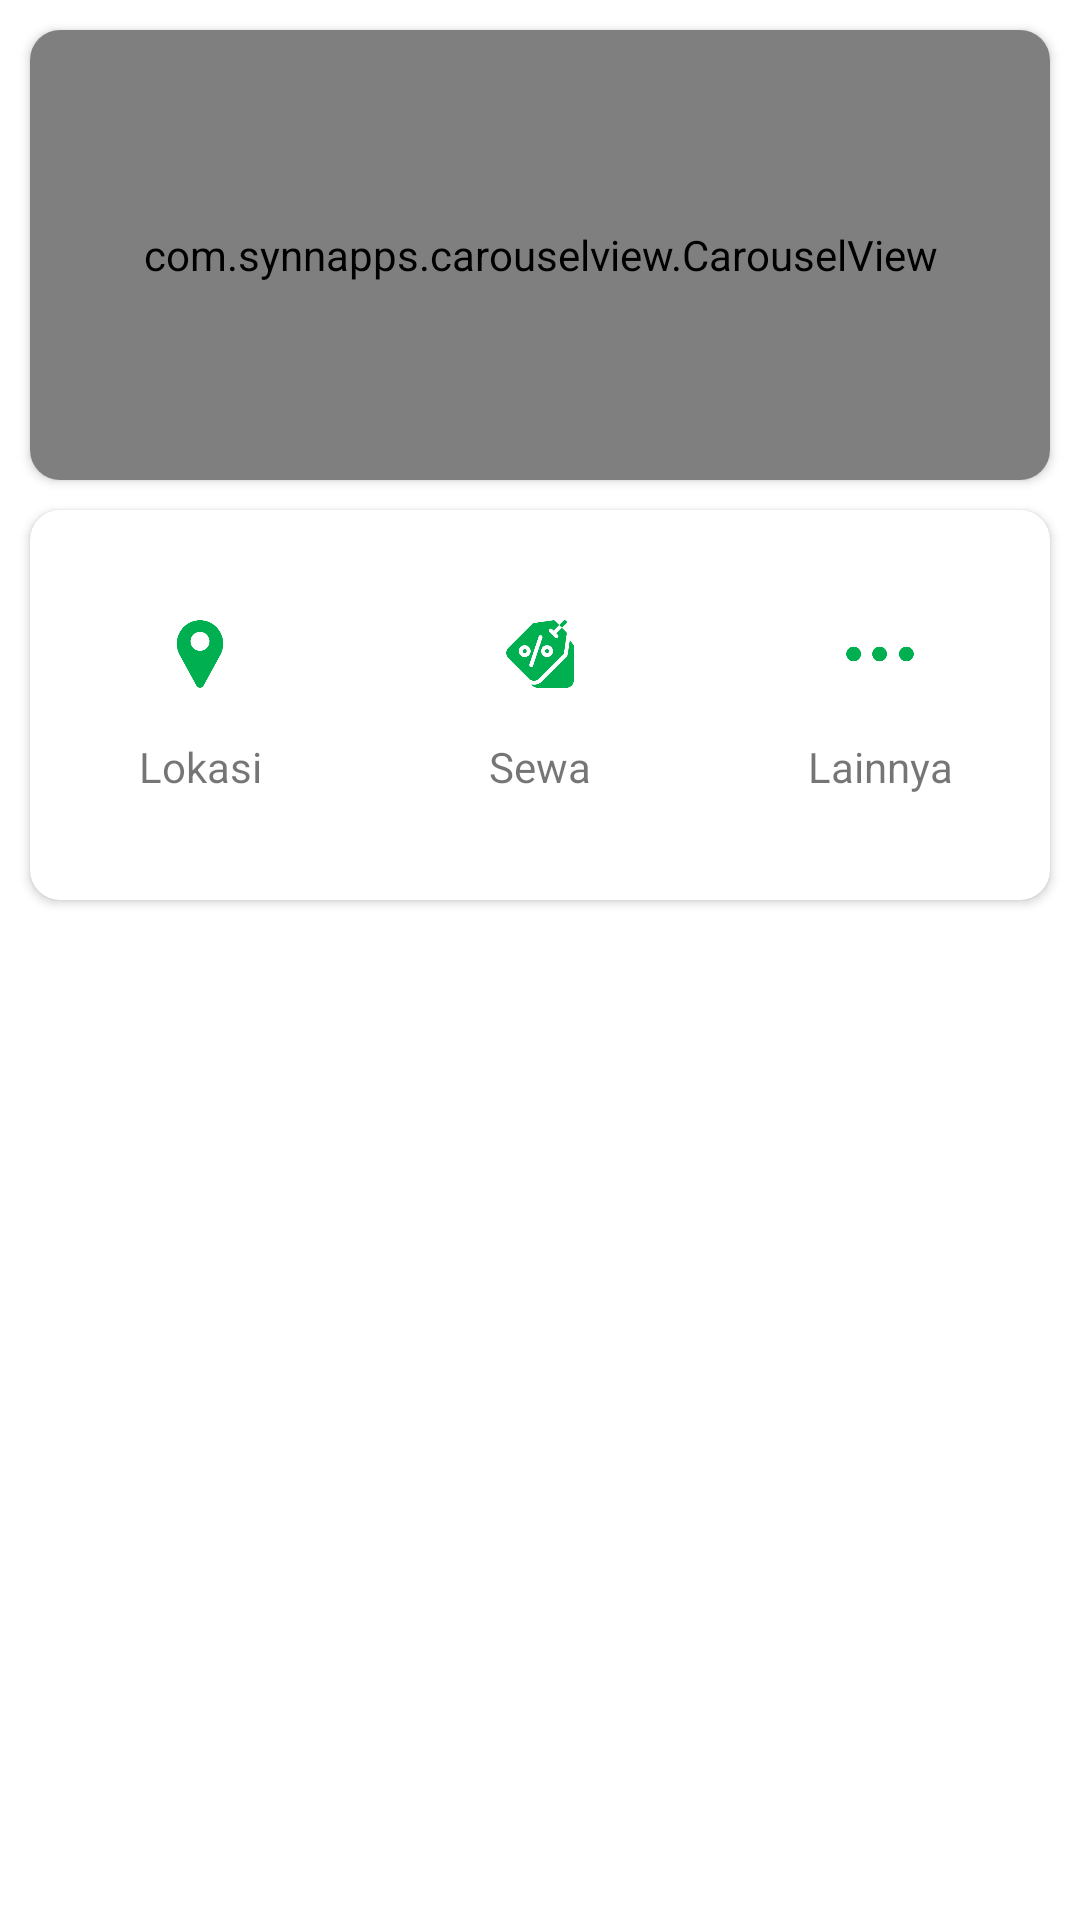

Locate icon controls on the screen. Image size 1080x1920, boxes as (x1, y1, x2, y2).
maps: (177, 620, 223, 688)
opsion: (846, 646, 914, 662)
